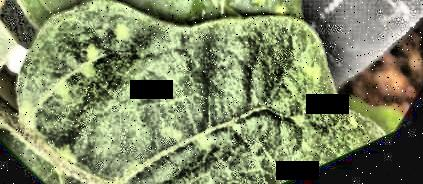HEALTHY: (0, 0, 423, 183)
